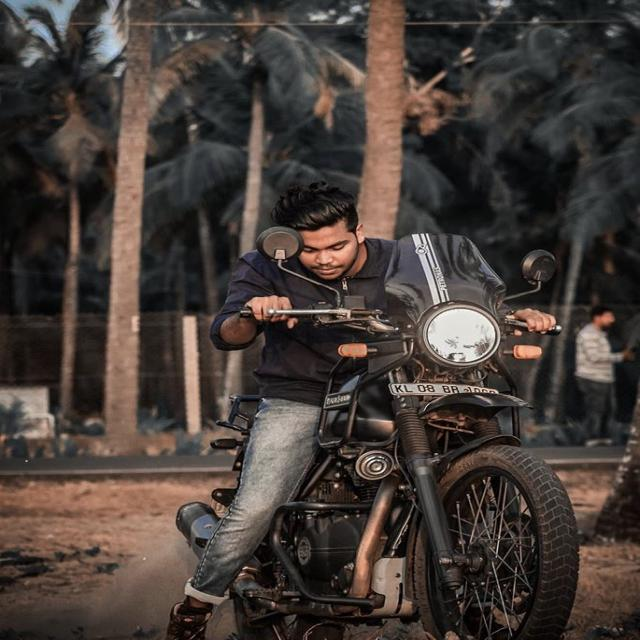Not Wearing Helmet: (266, 175, 414, 314)
